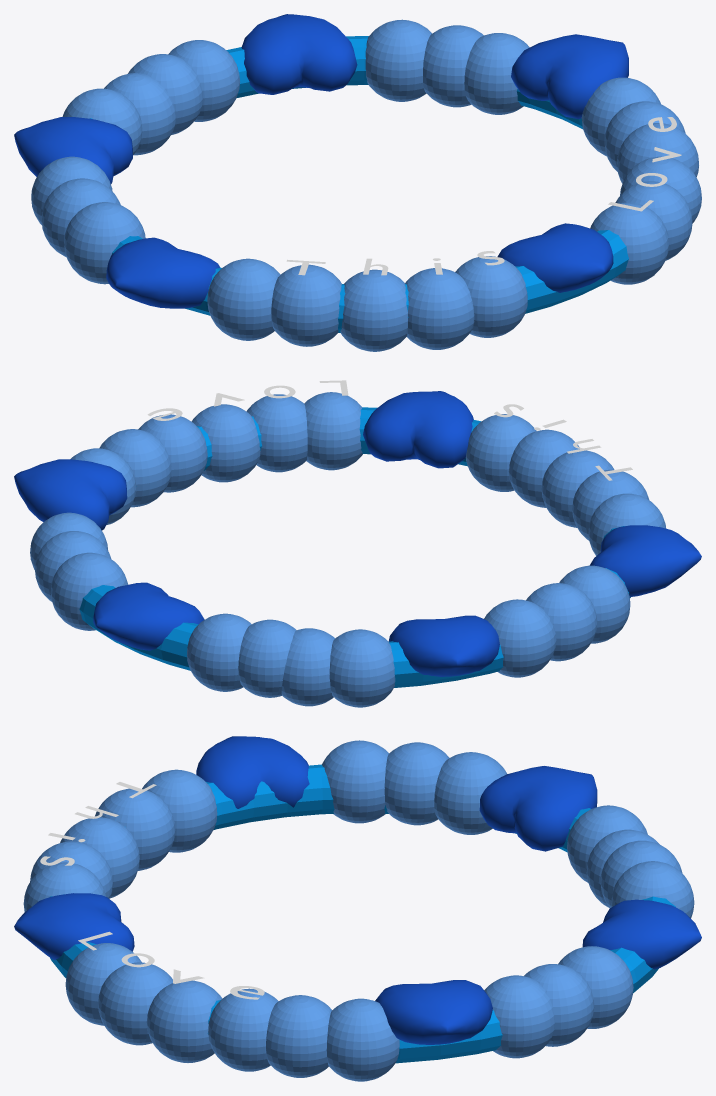
File: NinteenEightyNine_thisLove.fbx
3 renders of one model, top to bottom at view 1: azimuth 30°, elevation 25°; view 2: azimuth 150°, elevation 25°; view 3: azimuth 270°, elevation 25°, orthographic. The views are drawn at different scales.
Visible parts, largest first — view 1: Torus.028; view 2: Torus.028; view 3: Torus.028.
Part boxes in pixels (x1=…): Torus.028: x1=14, y1=14, x2=701, y2=351; Torus.028: x1=14, y1=391, x2=701, y2=707; Torus.028: x1=14, y1=736, x2=701, y2=1081.
Size of the model in its own units: 121 by 17.15 by 116.
